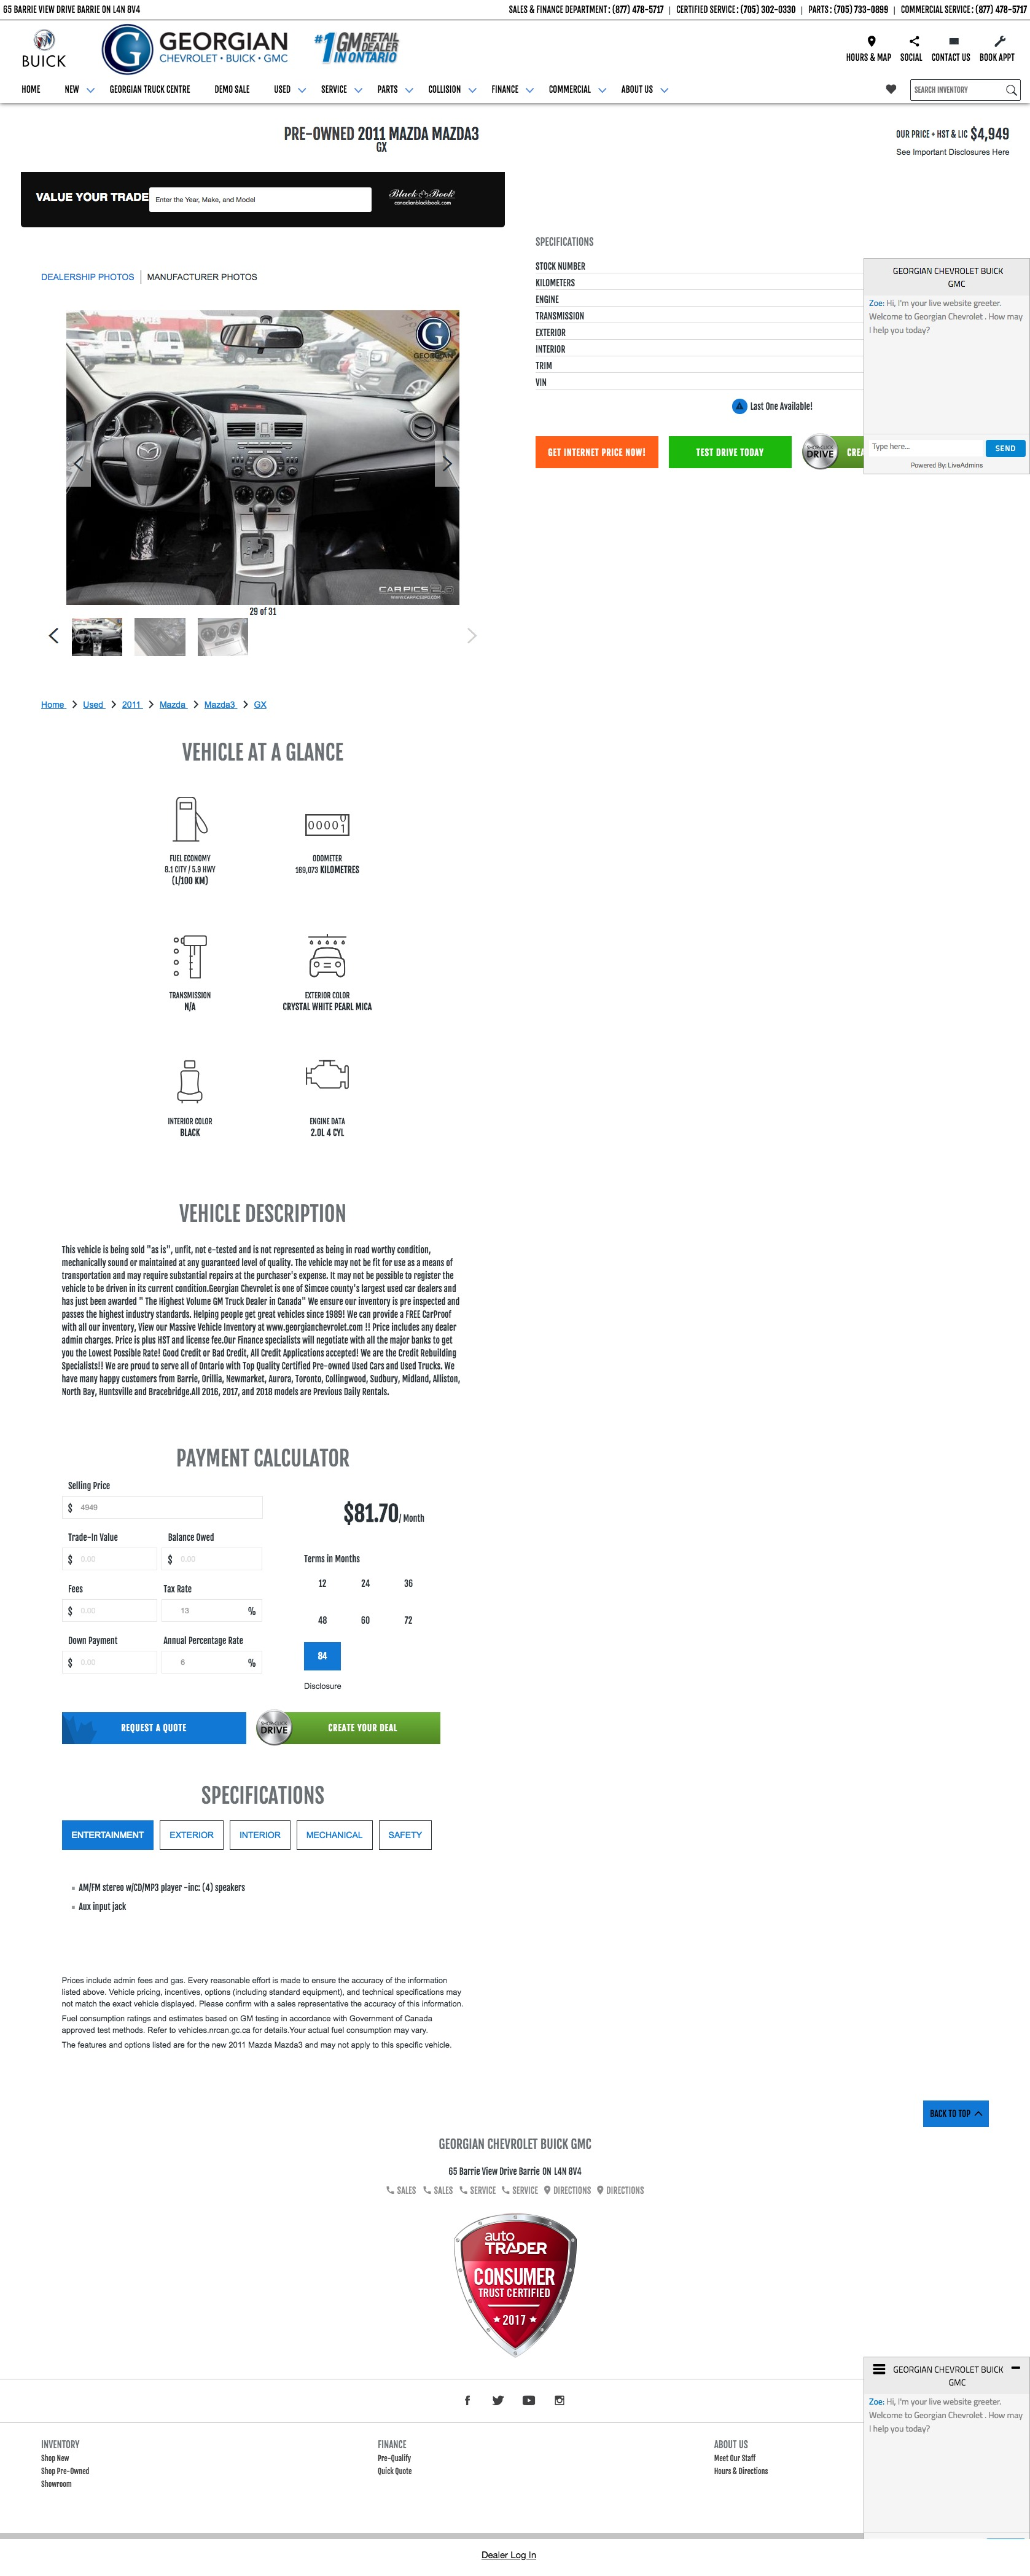car: (467, 629, 478, 644)
